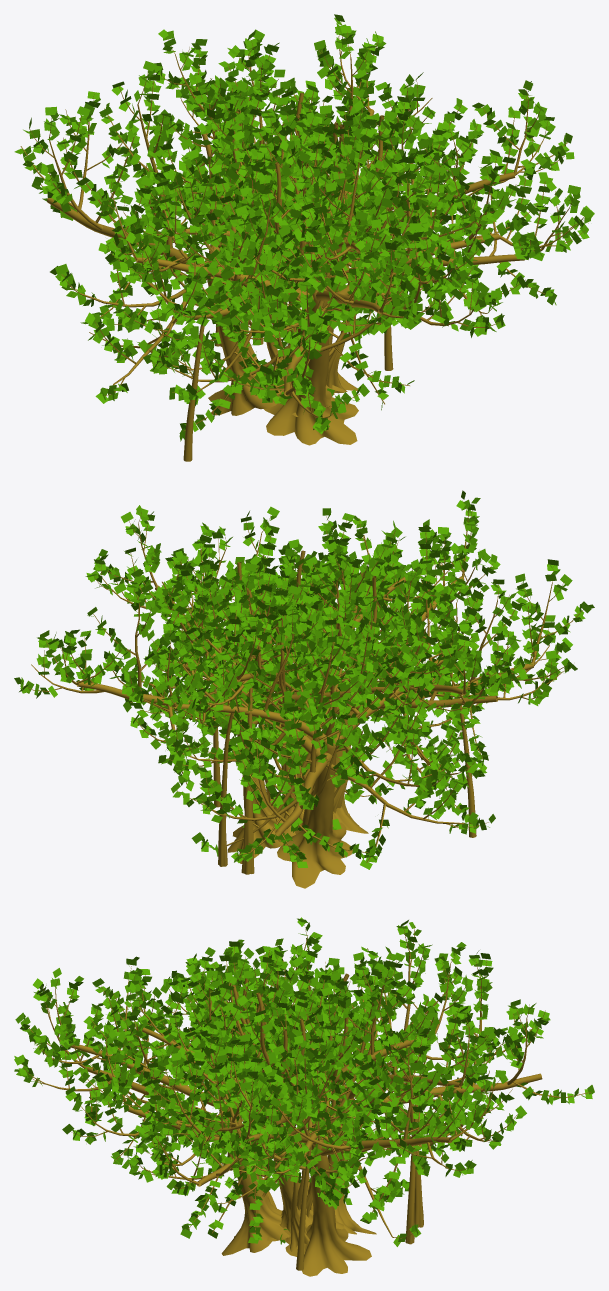
File: NewTree1.FBX
3 views of the same model, one above another, from view 1: azimuth 30°, elevation 25°; view 2: azimuth 150°, elevation 25°; view 3: azimuth 270°, elevation 25° (orthographic). The views are drawn at different scales.
Parts seen in each view (by area): view 1: Foliage002; view 2: Foliage002; view 3: Foliage002.
Part boxes in pixels (x1,y1,x2,y2): Foliage002: (14,14,594,461); Foliage002: (14,490,594,888); Foliage002: (14,917,594,1276).
Bounding box in the file's own units: 20.85 × 14.57 × 24.91.
